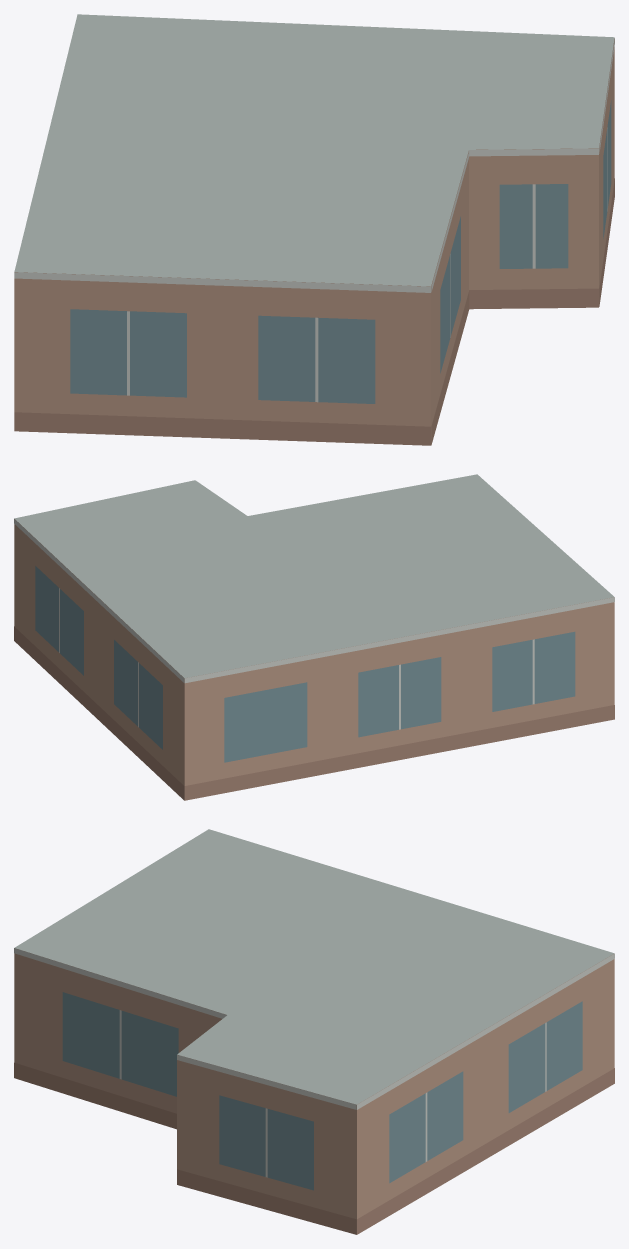
The model's file is survey-upis-32926609.glb.
3 renders of one model, top to bottom at view 1: azimuth 30°, elevation 25°; view 2: azimuth 150°, elevation 25°; view 3: azimuth 270°, elevation 25°, orthographic. The views are drawn at different scales.
Parts seen in each view (by area): view 1: survey-upis-32926609.tmp; view 2: survey-upis-32926609.tmp; view 3: survey-upis-32926609.tmp.
Boxes of the visible parts, bbox=[...] form: survey-upis-32926609.tmp: bbox=[14, 14, 614, 445]; survey-upis-32926609.tmp: bbox=[14, 474, 614, 800]; survey-upis-32926609.tmp: bbox=[14, 829, 614, 1234].
Size of the model in its own units: 13.86 by 3.05 by 12.77.
